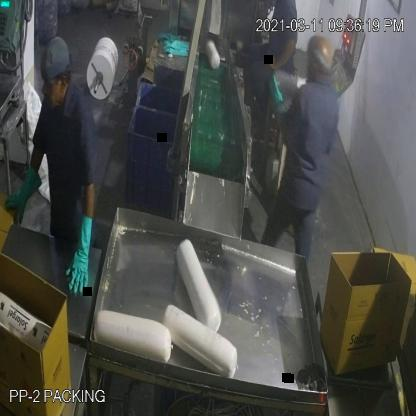glove: (54, 204, 100, 305), (2, 161, 44, 229)
no_glove: (266, 35, 298, 77)
